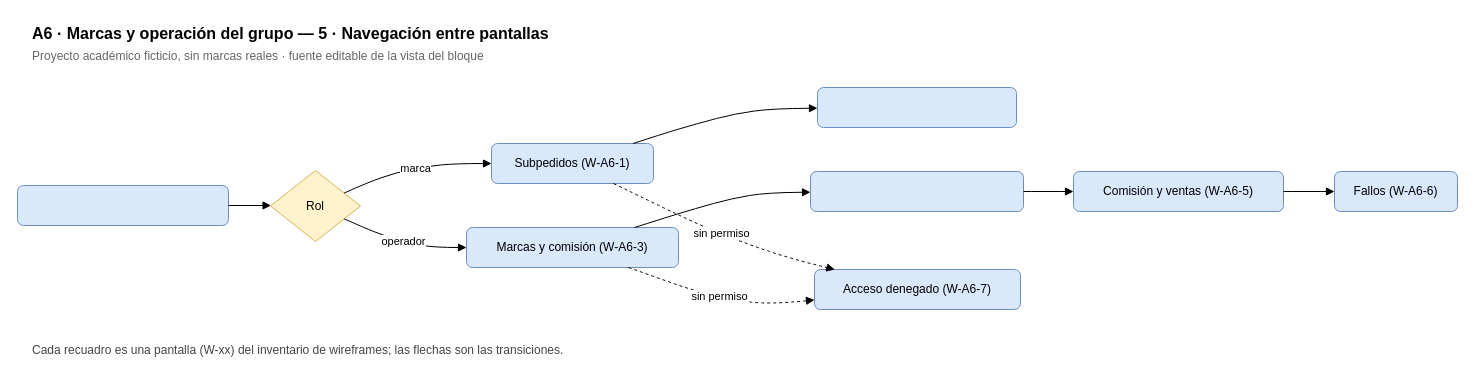
This 1475x377 diagram has some shape labels left out. The shapes that lost their labels are listed below. From the top down, each one's box as (x1, y1, x2, y2) in pixels, then its label:
(816, 86, 1016, 128): Catálogo y stock (W-A6-2)
(16, 184, 228, 226): Inicio de sesión (bloque A5)
(810, 170, 1024, 212): Pedidos e historial (W-A6-4)
